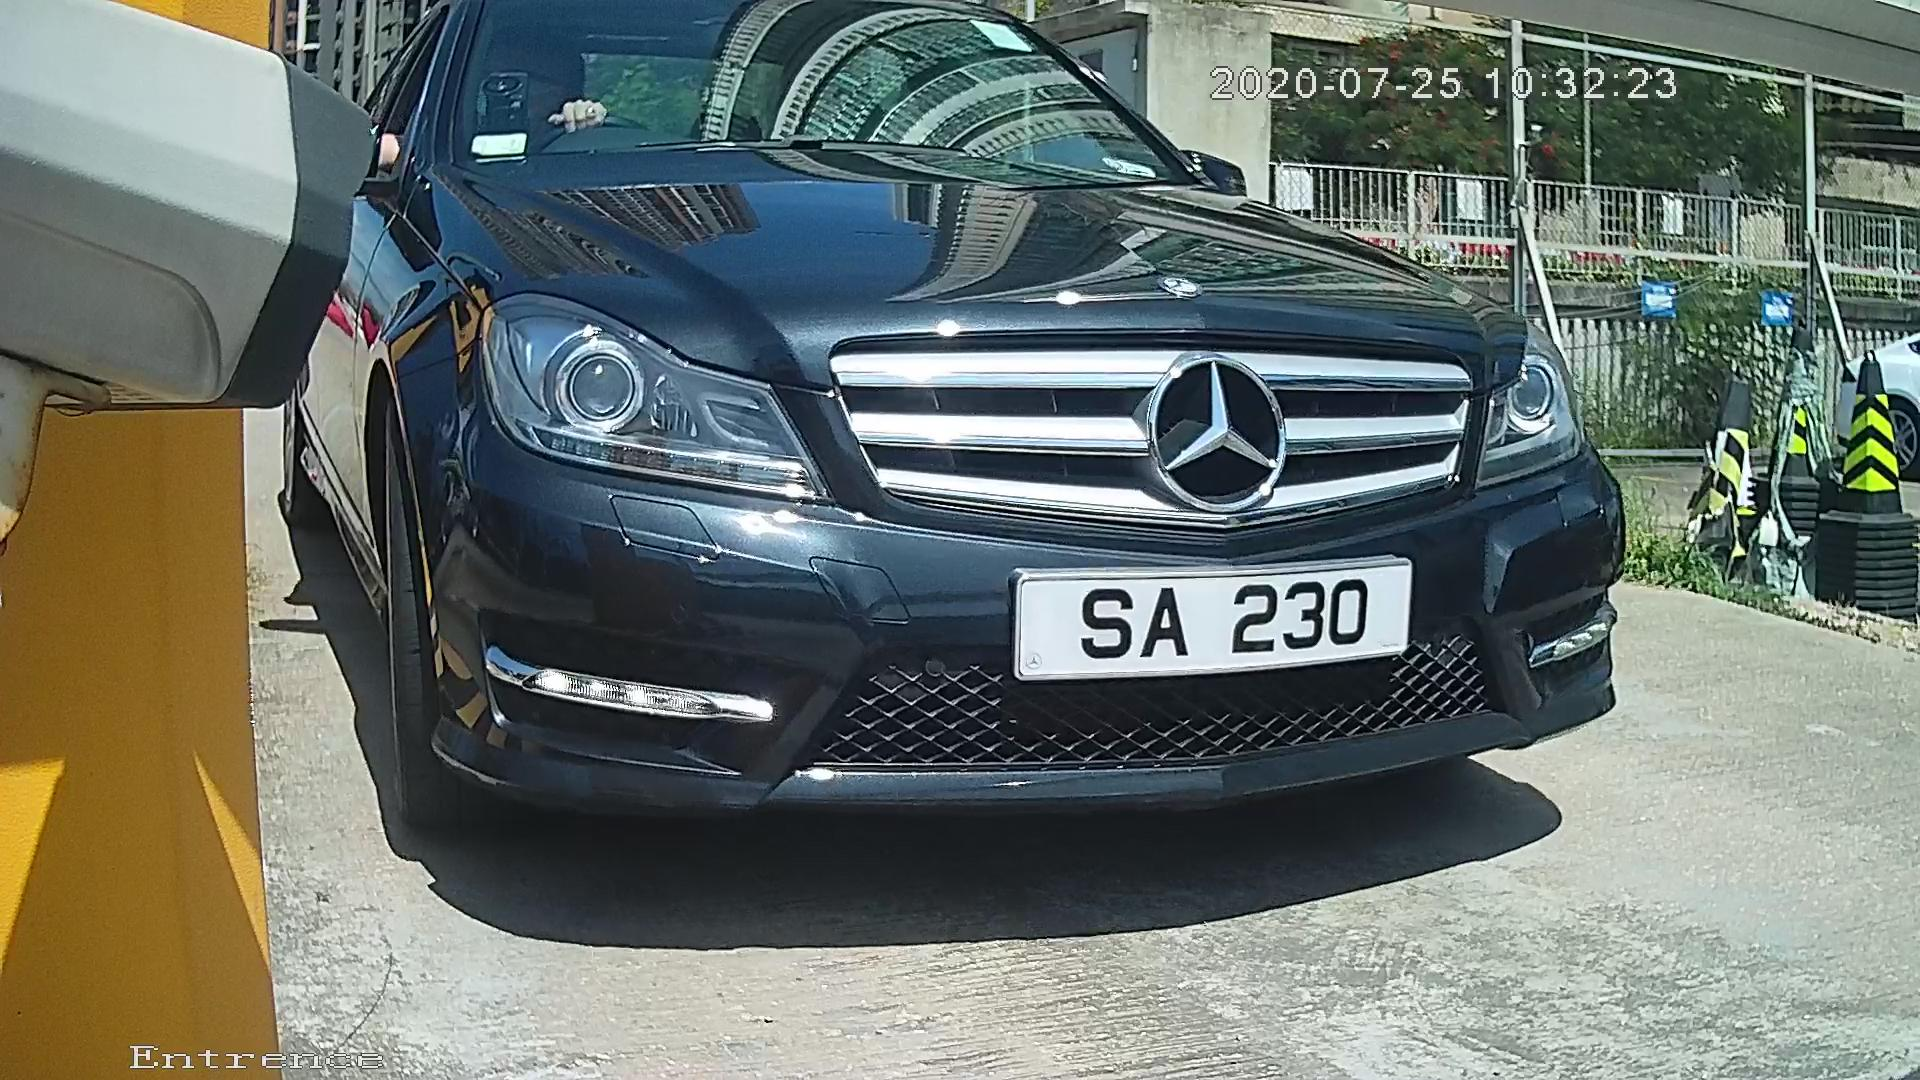Car: (172, 25, 1715, 912)
License Plate: (1012, 550, 1432, 690)
